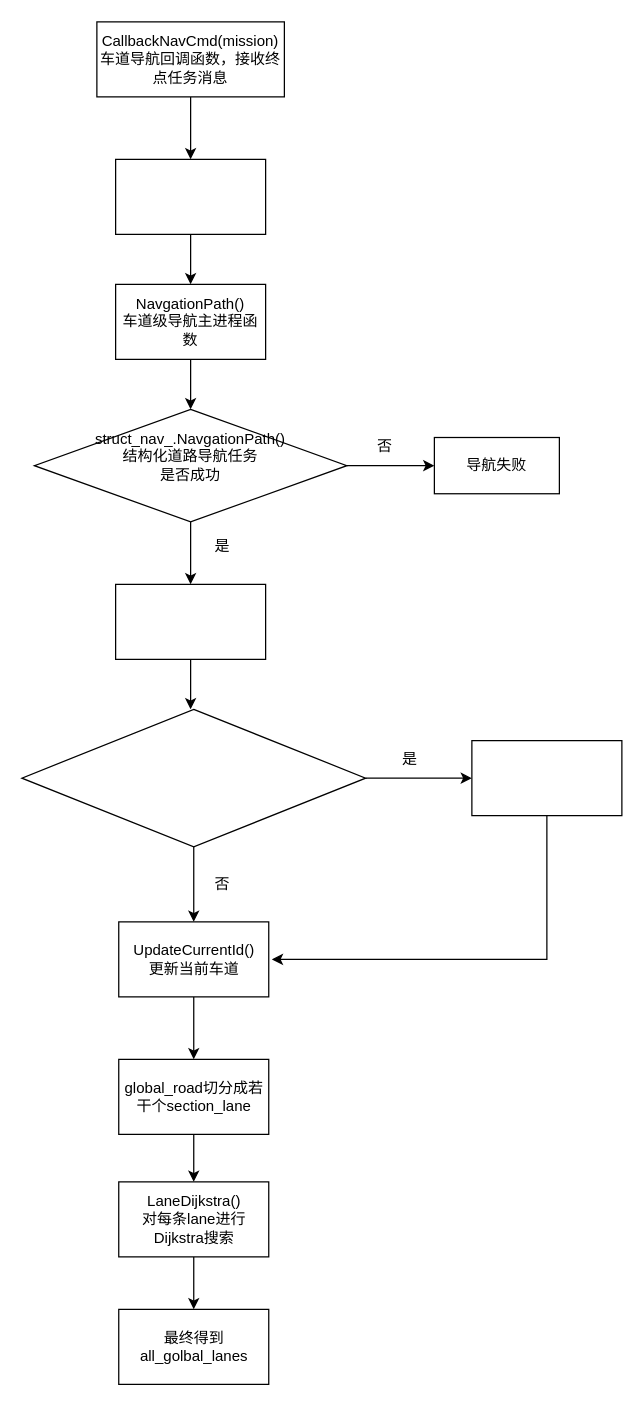
This 644x1406 diagram has some shape labels left out. The shapes that lost their labels are listed below. From the top down, each one's box as (x1, y1, x2, y2) in pixels, then its label:
(114, 158, 266, 234): NavigationStart() 导航开始主函数
(114, 583, 266, 659): UpdateLocPose() 实时更新当前位置
(21, 708, 366, 847): UpdateSection() 判断当前车道是否是执行道路 的最后一段
(471, 739, 622, 816): 更新global_road
